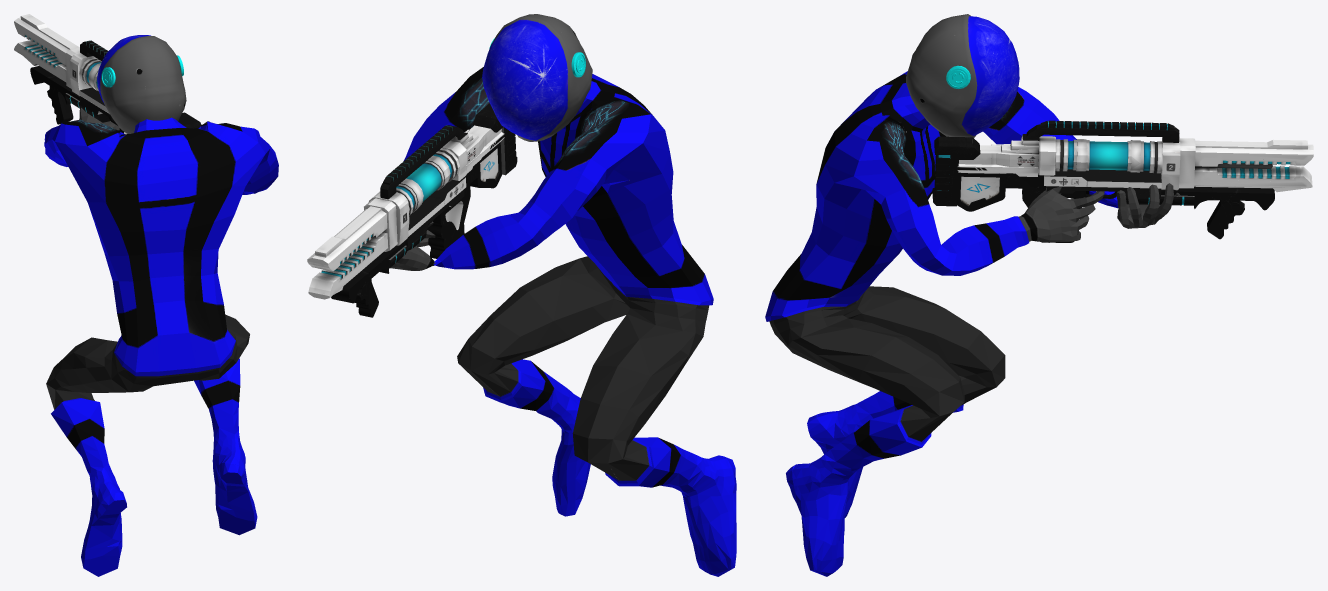
The picture shows the model from 3 angles, left to right: view 1: azimuth 30°, elevation 25°; view 2: azimuth 150°, elevation 25°; view 3: azimuth 270°, elevation 25°; orthographic projection. The views are drawn at different scales.
Visible parts, largest first — view 1: Brazos2, Piernas1, Cabeza1, Line0011; view 2: Piernas1, Brazos2, Line0011, Cabeza1; view 3: Brazos2, Piernas1, Line0011, Cabeza1.
Boxes of the visible parts, x1,y1,x2,y2 form: Brazos2: (44, 107, 278, 376); Piernas1: (46, 314, 257, 576); Cabeza1: (97, 35, 186, 133); Line0011: (14, 14, 201, 134); Piernas1: (457, 256, 736, 576); Brazos2: (390, 67, 713, 305); Line0011: (307, 103, 517, 317); Cabeza1: (482, 14, 592, 141); Brazos2: (765, 71, 1180, 321); Piernas1: (769, 286, 1005, 576); Line0011: (932, 120, 1313, 242); Cabeza1: (906, 14, 1019, 137).
Size of the model in its own units: 70.76 by 140 by 126.
